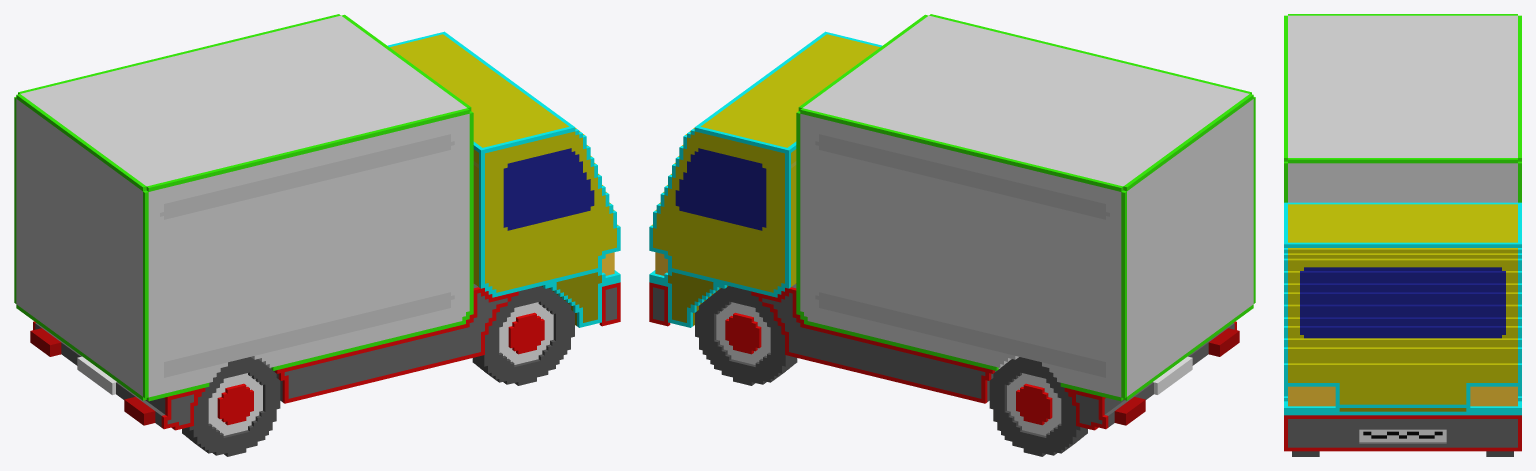
Rendered from van_neon2.obj.
3 views of the same model, side by side, from view 1: azimuth 30°, elevation 25°; view 2: azimuth 150°, elevation 25°; view 3: azimuth 270°, elevation 25° (orthographic). The views are drawn at different scales.
Bounding box in the file's own units: 126 × 74 × 60.
Materials: 1 (1 with a texture image).
